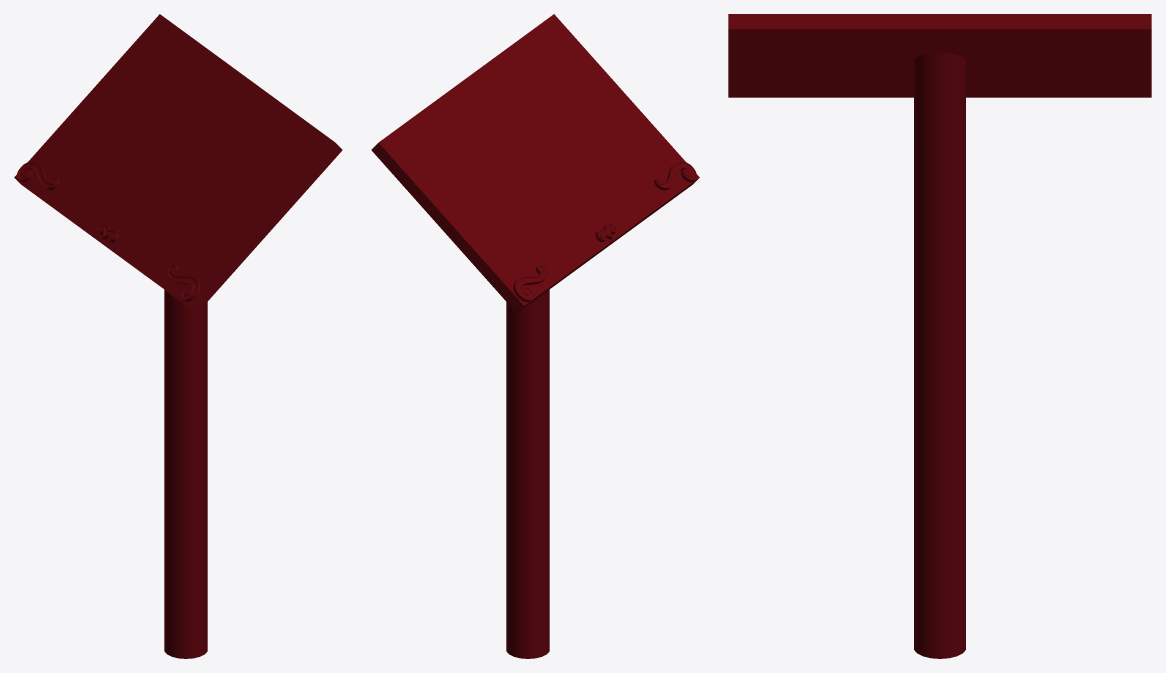
The model's file is PlacaUnion.FBX.
The picture shows the model from 3 angles, left to right: view 1: azimuth 30°, elevation 25°; view 2: azimuth 150°, elevation 25°; view 3: azimuth 270°, elevation 25°; orthographic projection. The views are drawn at different scales.
Parts seen in each view (by area): view 1: Box029; view 2: Box029; view 3: Box029.
Boxes of the visible parts, bbox=[...] form: Box029: bbox=[14, 14, 342, 658]; Box029: bbox=[371, 14, 699, 658]; Box029: bbox=[728, 14, 1151, 658].
Size of the model in its own units: 16.02 by 55.02 by 31.5.
